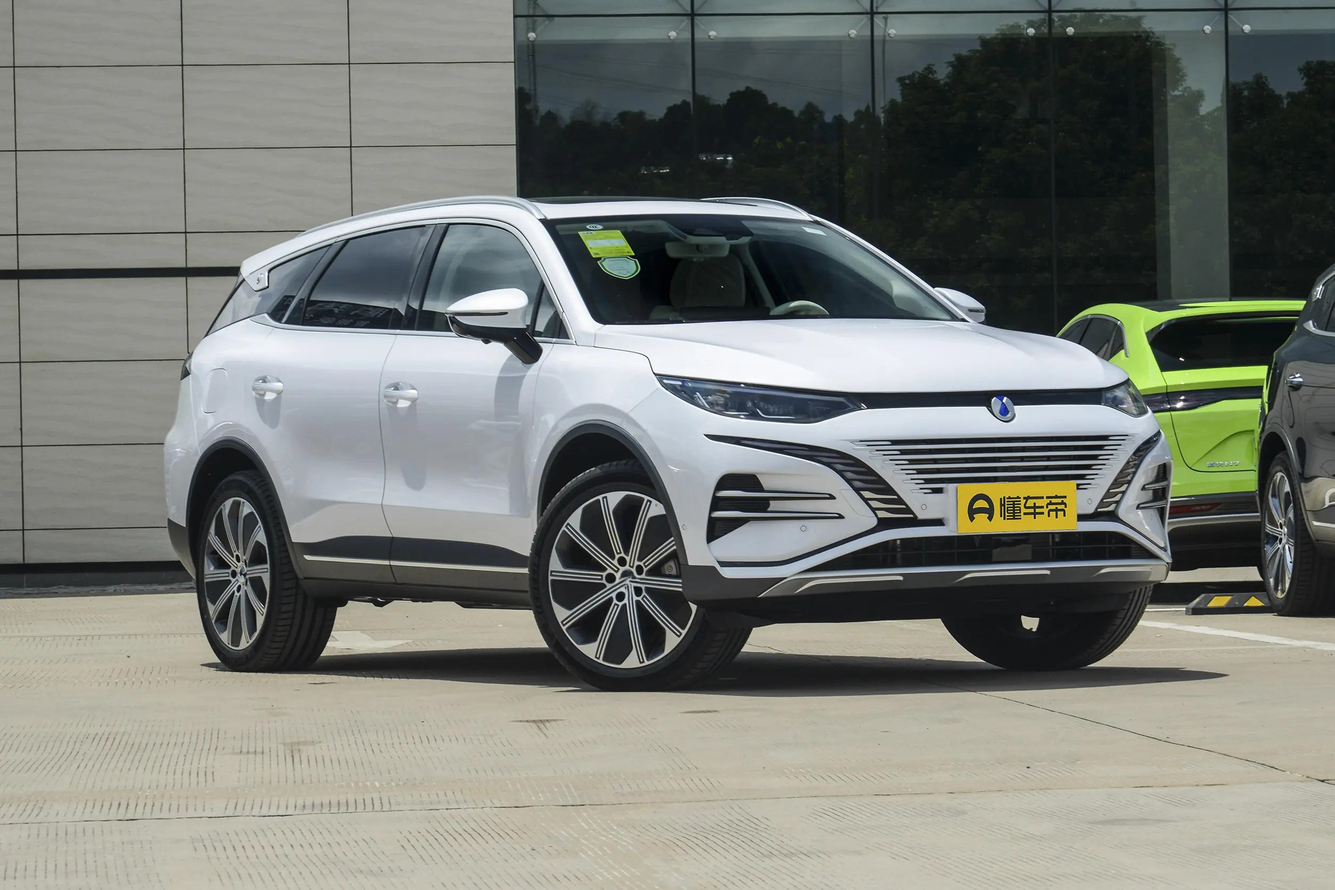DENZA: (992, 396, 1014, 420)
